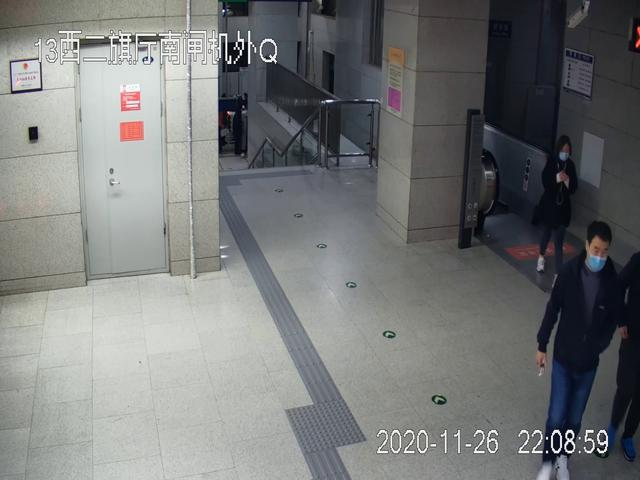person: (535, 220, 629, 478), (534, 137, 576, 272)
